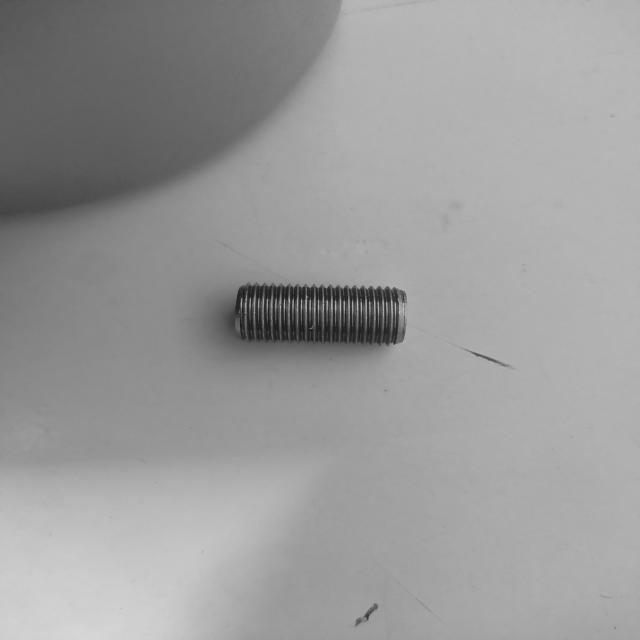Normal: (234, 281, 407, 348)
